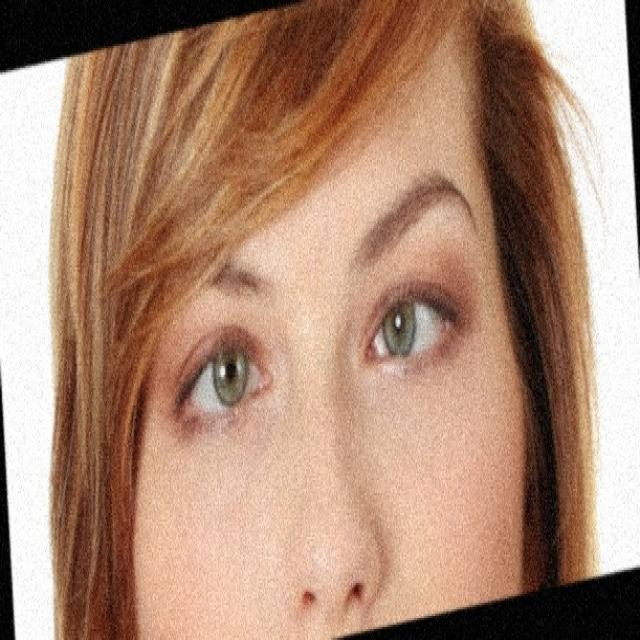Healthy-Eye: (172, 327, 286, 440)
Squint: (354, 282, 474, 391)
